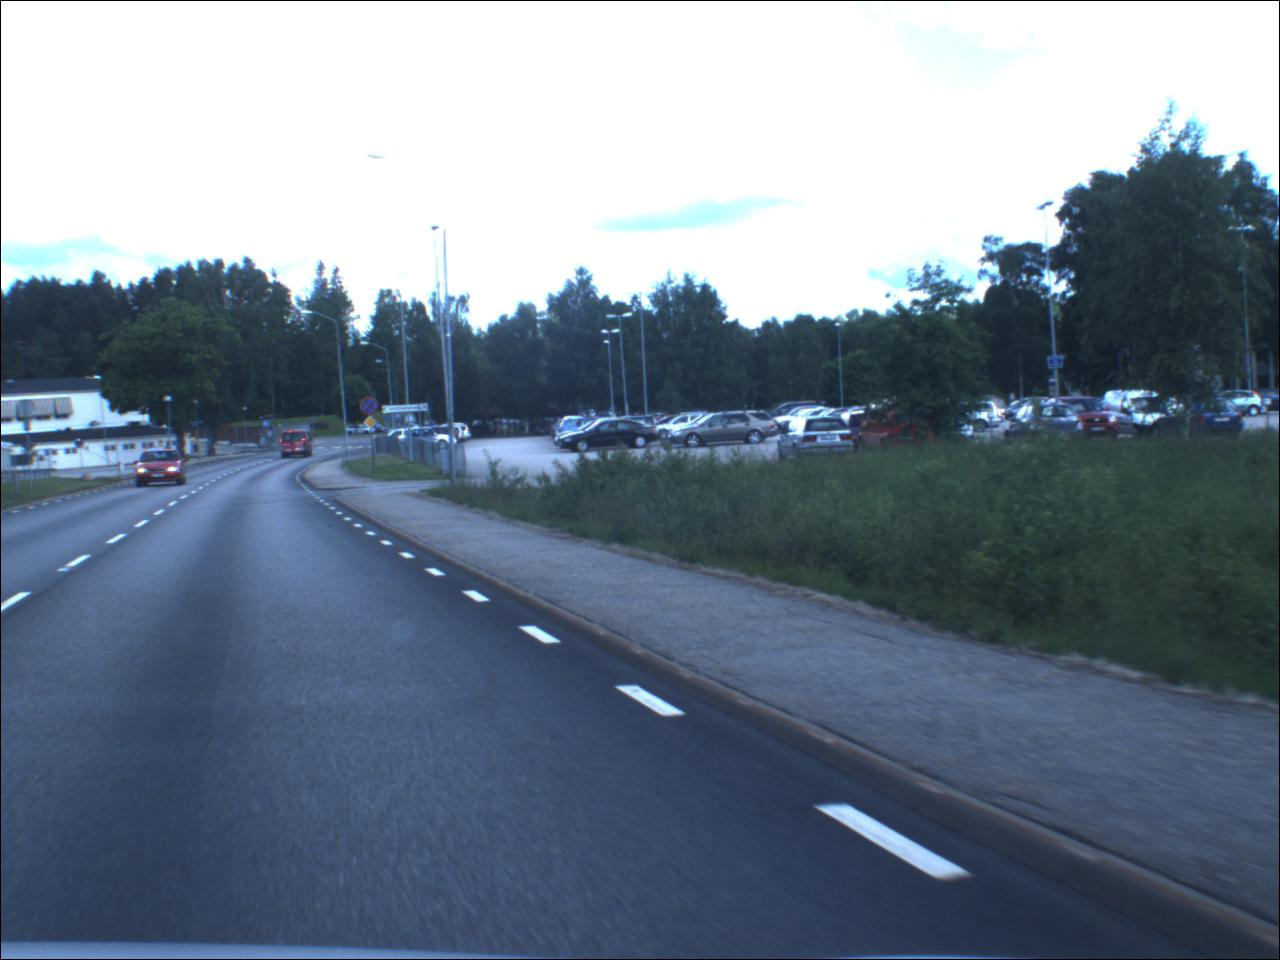NO_STOPPING_NO_STANDING: (361, 397, 382, 417)
PRIORITY_ROAD: (365, 418, 380, 431)
